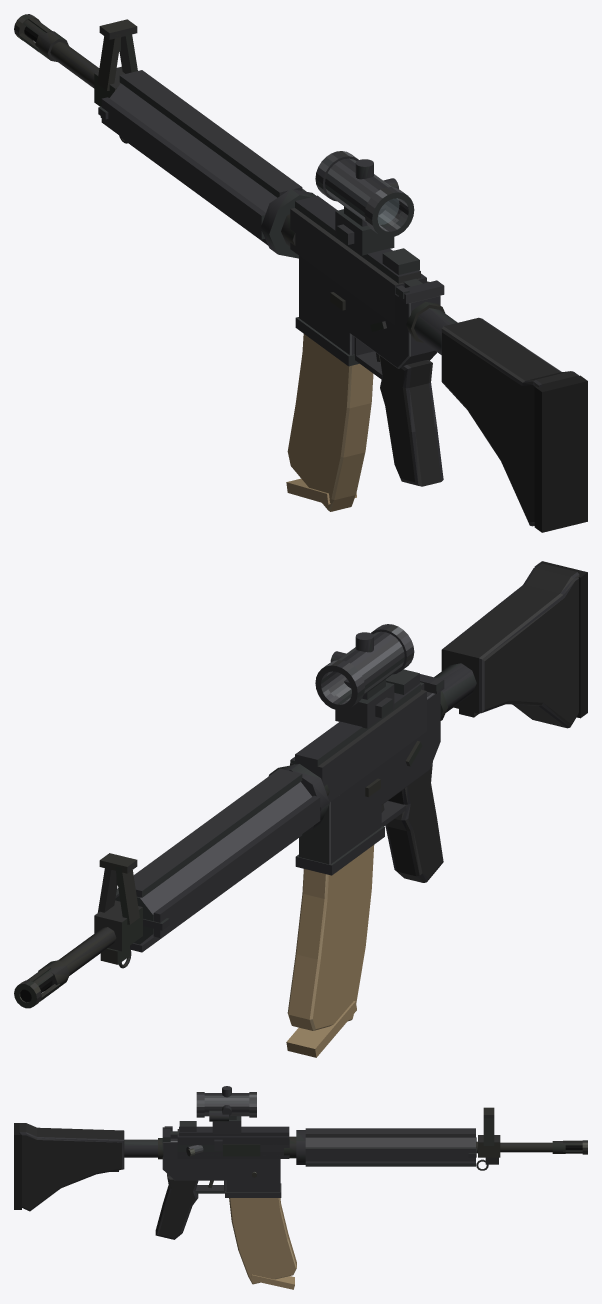
File: carbine_tps.glb
The picture shows the model from 3 angles, top to bottom: view 1: azimuth 30°, elevation 25°; view 2: azimuth 150°, elevation 25°; view 3: azimuth 270°, elevation 25°; orthographic projection. The views are drawn at different scales.
Visible parts, largest first — view 1: carbine_alu, carbine_poly, carbine_mag, carbine_steel, carbine_charge; view 2: carbine_alu, carbine_poly, carbine_mag, carbine_steel; view 3: carbine_alu, carbine_poly, carbine_mag, carbine_steel, carbine_cover.
Boxes of the visible parts, x1,y1,x2,y2 form: carbine_alu: (98, 70, 457, 379); carbine_poly: (379, 317, 587, 532); carbine_mag: (286, 334, 373, 511); carbine_steel: (14, 14, 444, 361); carbine_charge: (395, 279, 444, 303); carbine_alu: (115, 624, 476, 952); carbine_poly: (385, 561, 587, 882); carbine_mag: (286, 845, 374, 1057); carbine_steel: (14, 691, 447, 1008); carbine_alu: (124, 1086, 476, 1197); carbine_poly: (14, 1123, 198, 1239); carbine_mag: (229, 1198, 296, 1289); carbine_steel: (158, 1107, 587, 1188); carbine_cover: (223, 1144, 260, 1156).
Size of the model in its own units: 0.0625 by 0.3335 by 0.876.
